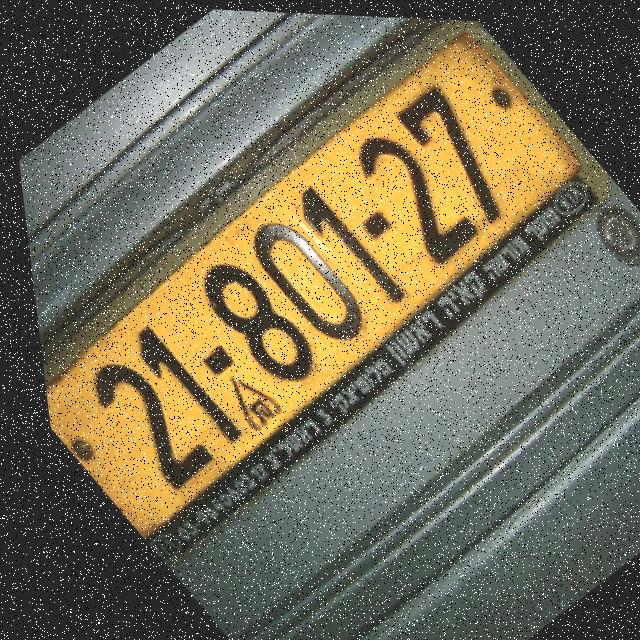license_plate: (12, 58, 575, 520)
